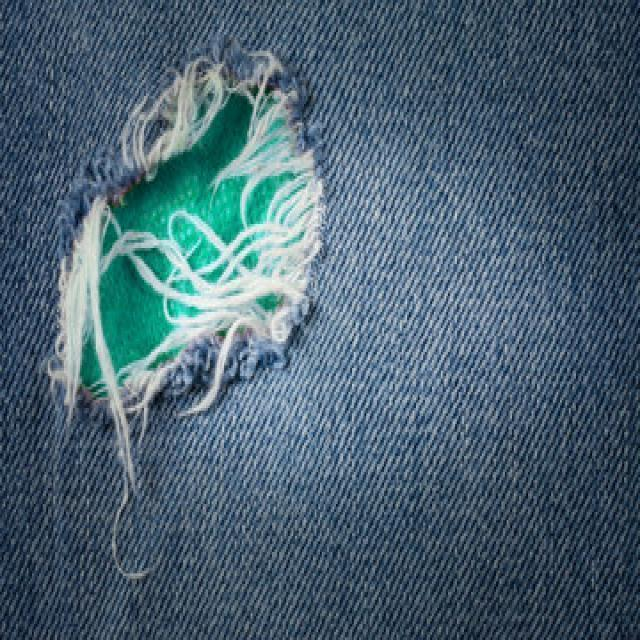Hole: (50, 41, 323, 496)
